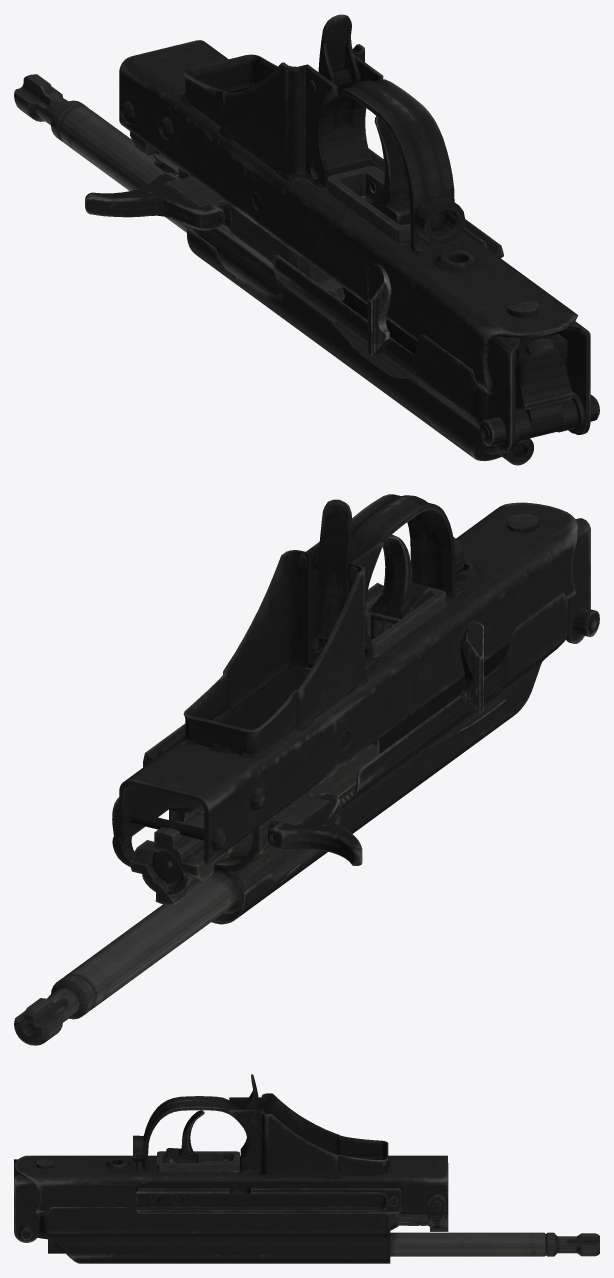
3 views of the same model, one above another, from view 1: azimuth 30°, elevation 25°; view 2: azimuth 150°, elevation 25°; view 3: azimuth 270°, elevation 25° (orthographic). The views are drawn at different scales.
Parts seen in each view (by area): view 1: TW_645e0c6b3b381ede770e1cc9_PZ_Import; view 2: TW_645e0c6b3b381ede770e1cc9_PZ_Import; view 3: TW_645e0c6b3b381ede770e1cc9_PZ_Import.
Boxes of the visible parts, x1=… form: TW_645e0c6b3b381ede770e1cc9_PZ_Import: x1=14, y1=14, x2=599, y2=465; TW_645e0c6b3b381ede770e1cc9_PZ_Import: x1=14, y1=494, x2=599, y2=1045; TW_645e0c6b3b381ede770e1cc9_PZ_Import: x1=14, y1=1074, x2=599, y2=1263.
Size of the model in its own units: 0.0388 by 0.1747 by 0.0615.
Materials: 1 (1 with a texture image).
